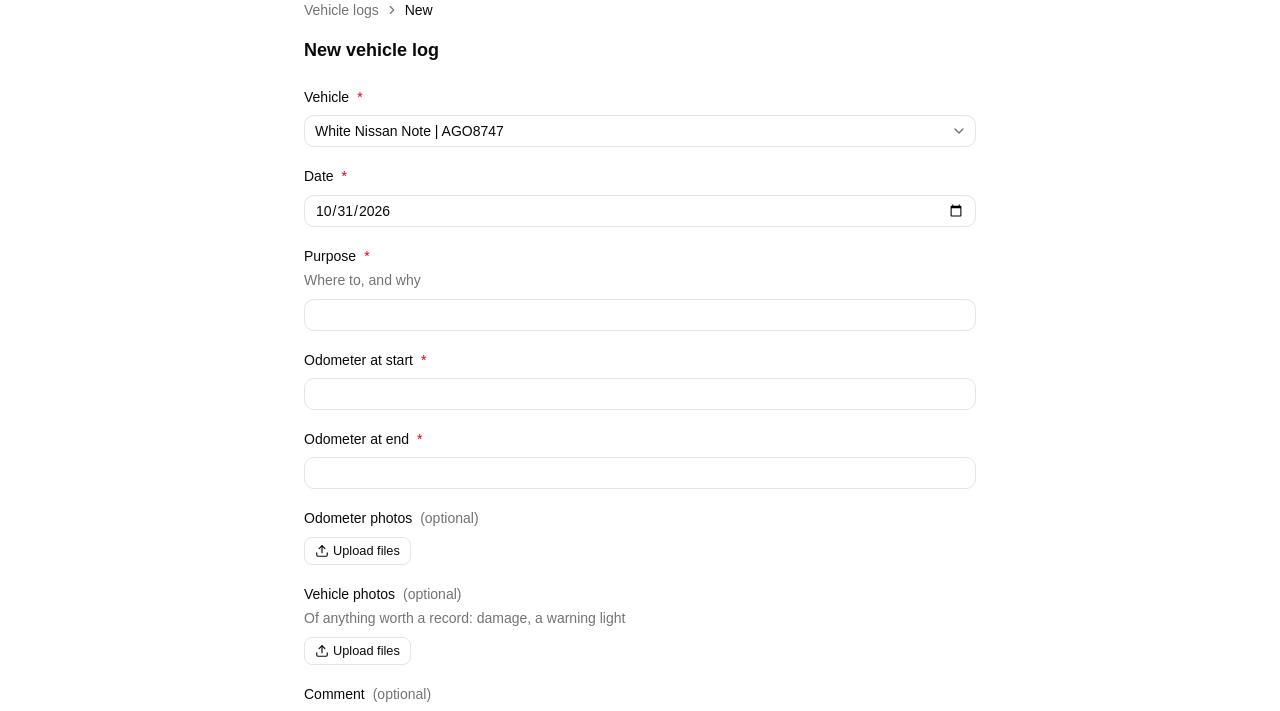
submitting asks once more, and keeping on editing sends nothing
Type "Client visit" into the field labelled "Purpose *" at (640, 315), box [304,299,976,331]
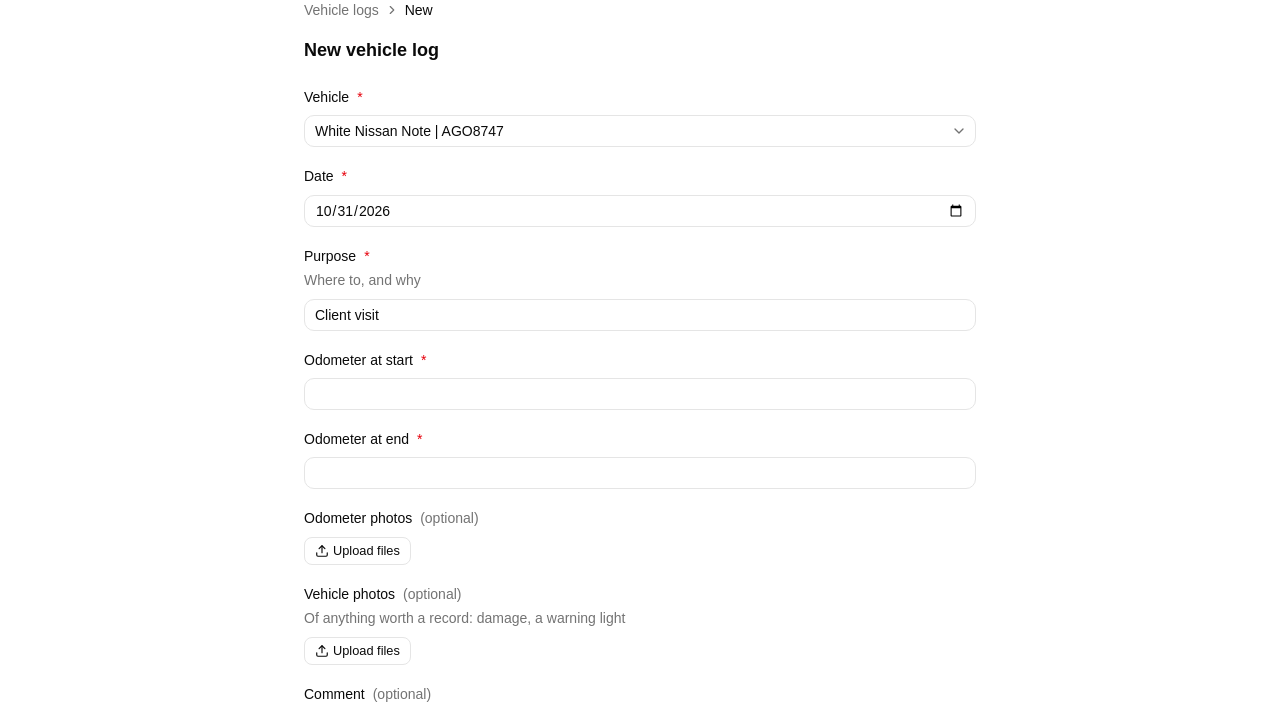
Type "100" into the number field labelled "Odometer at start *" at (640, 394), box [304,378,976,410]
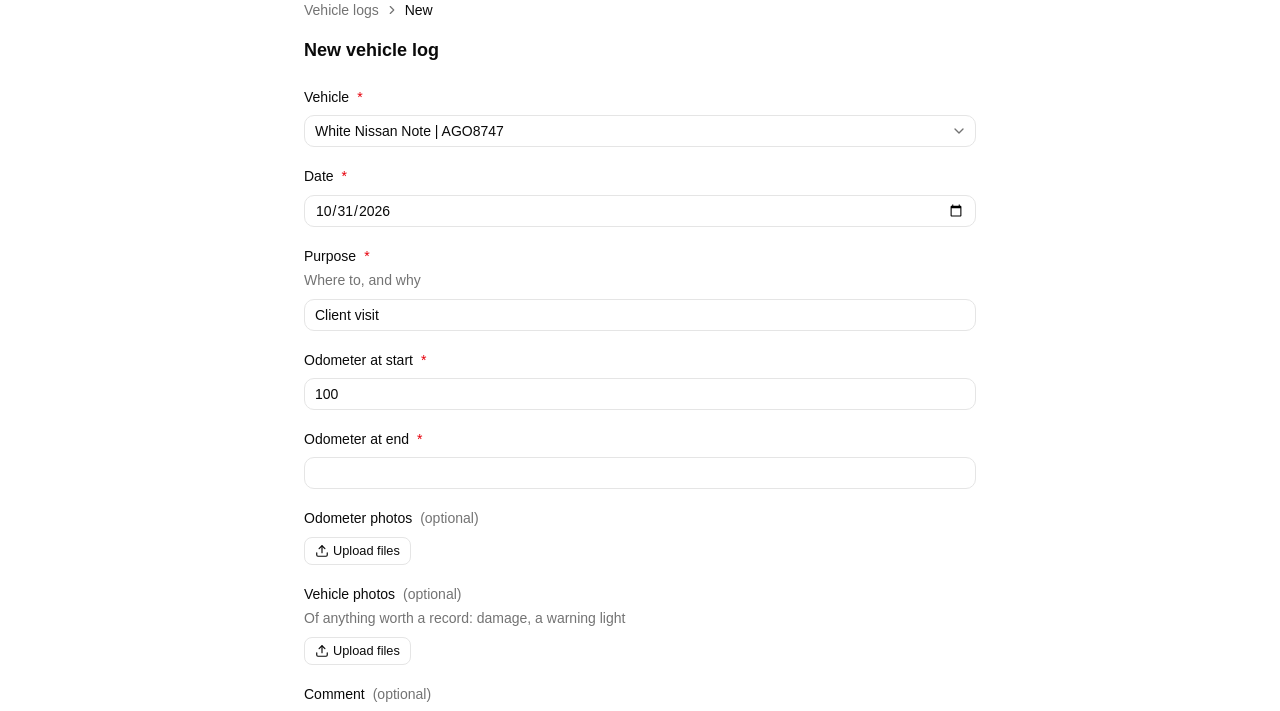
Type "140" into the number field labelled "Odometer at end *" at (640, 473), box [304,457,976,489]
(page scrolled)
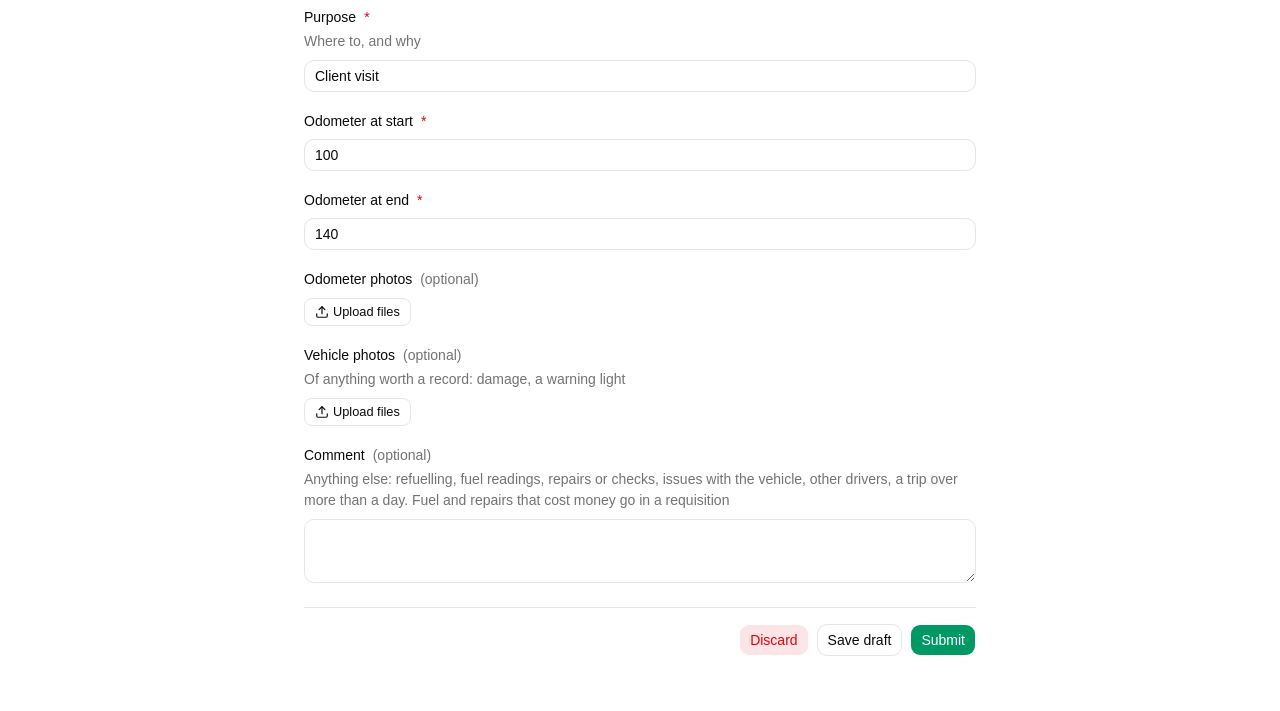
Click the button "Submit" at (943, 640), box [910,624,976,656]
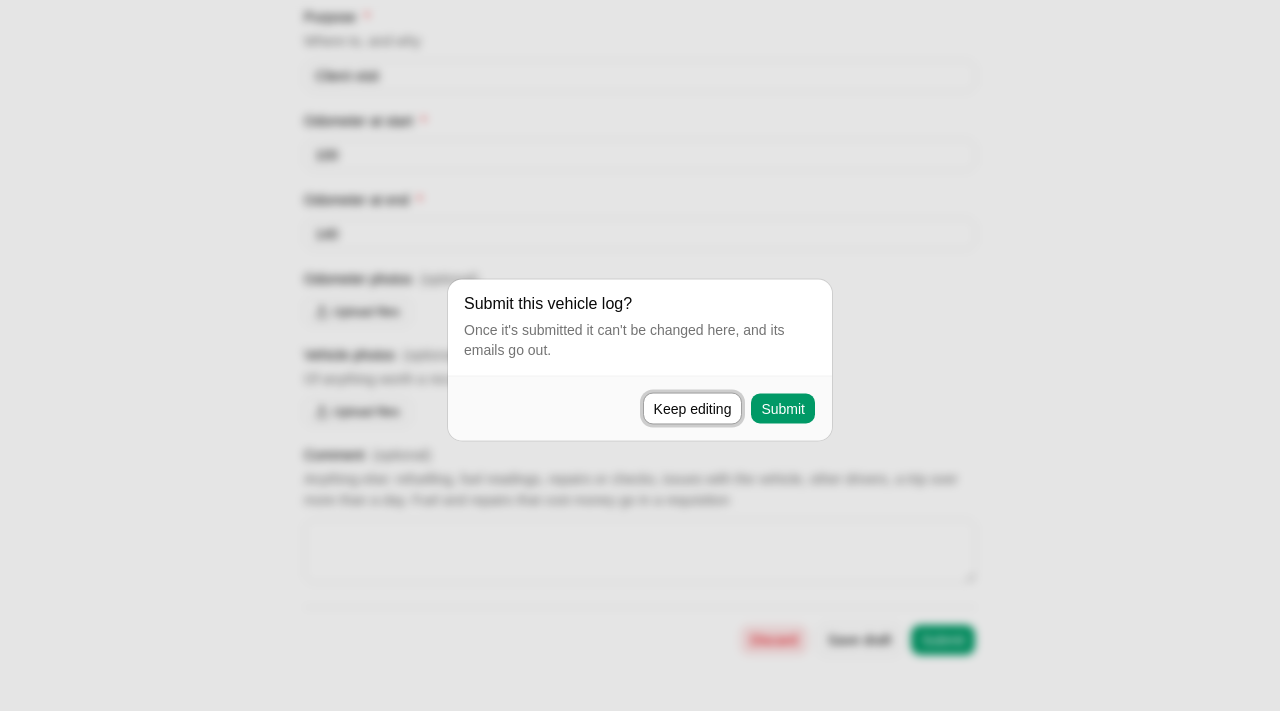
Now the dialog shows "Submit this vehicle log?", box [448,280,832,440]
Click the button "Keep editing" at (692, 408), box [643,392,742,424]
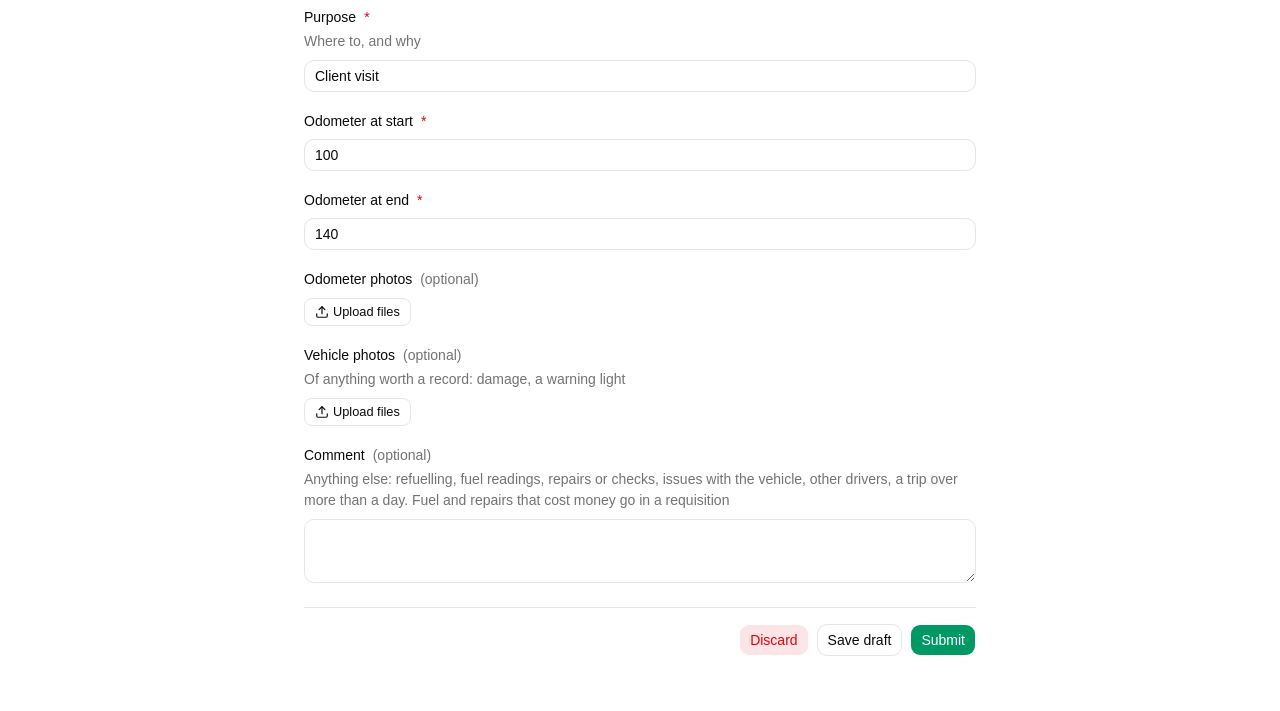
Now the dialog is gone
